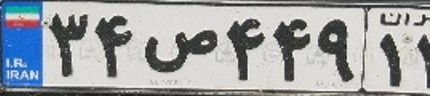character: (137, 17, 221, 78), (91, 8, 137, 84), (223, 10, 268, 84), (270, 13, 315, 87), (46, 8, 90, 82), (316, 13, 357, 85), (373, 30, 405, 90), (412, 31, 430, 90)
